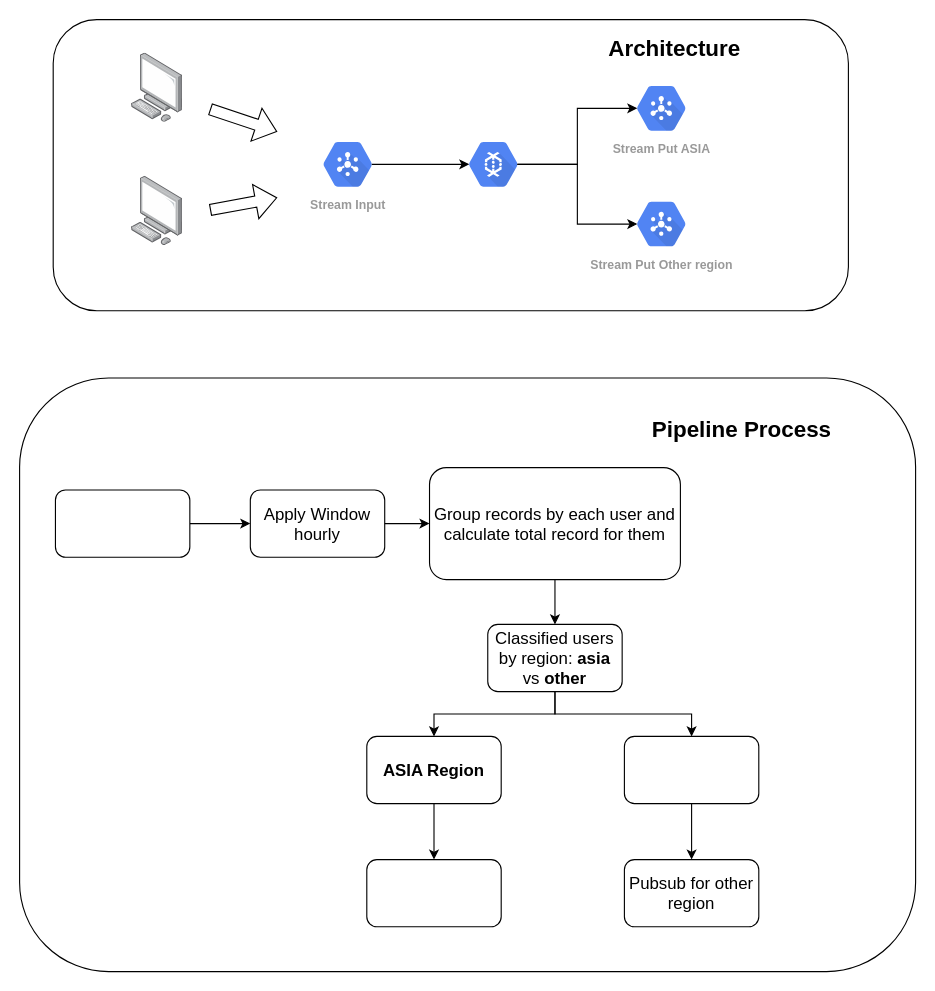
The diagram is 935 pixels wide and 991 high, and some of its shapes have lost their labels. The box of each missing label's shape, as (x1, y1, x2, y2) in pixels:
Dataflow Pipeline: (456, 131, 530, 197)
Other Region: (623, 735, 759, 804)
Pubsub for asia: (366, 858, 501, 927)
Receive message: (54, 489, 190, 557)
